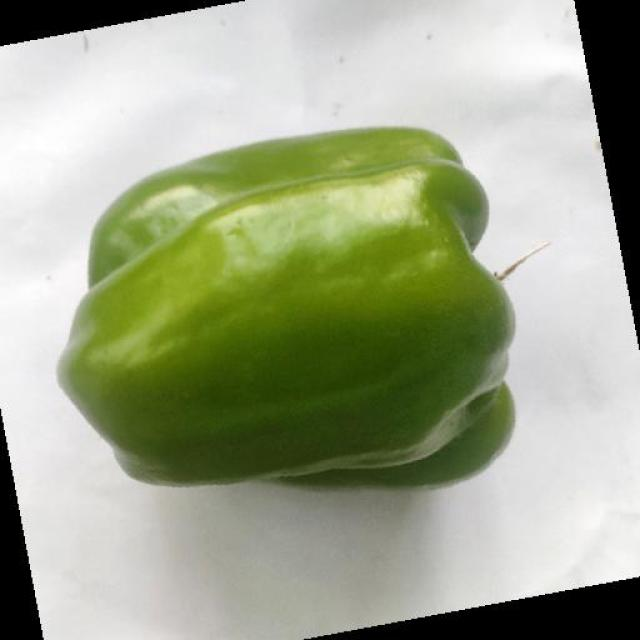Fresh_Capsicum: (60, 142, 498, 494)
